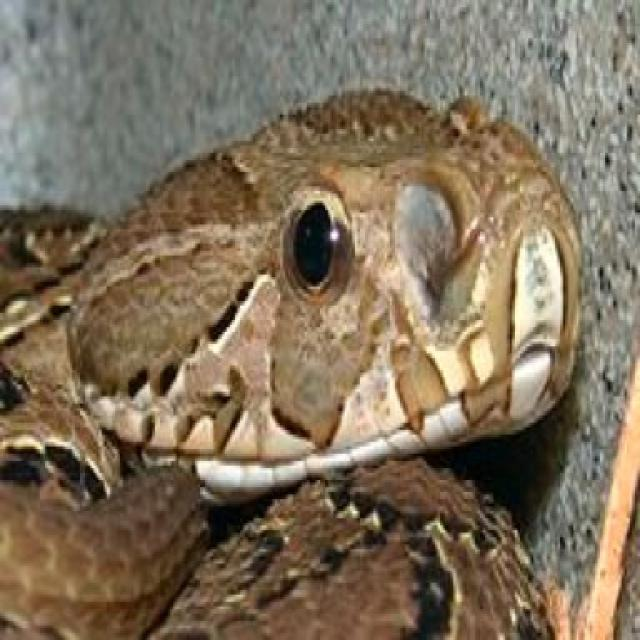Snake: (0, 83, 583, 635)
